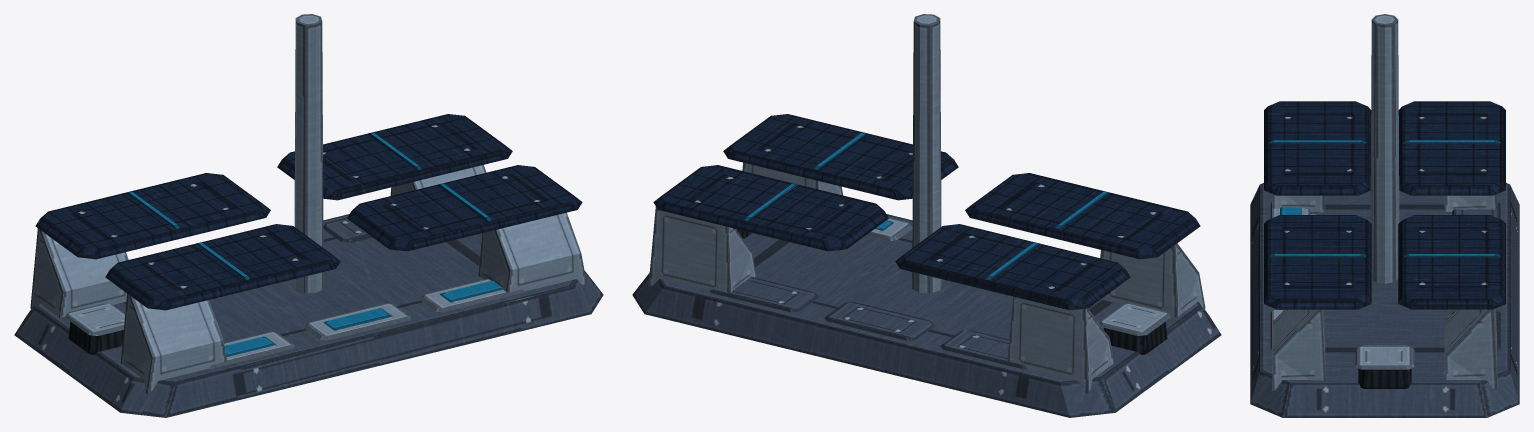
Rendered from building-solar.fbx.
3 renders of one model, left to right at view 1: azimuth 30°, elevation 25°; view 2: azimuth 150°, elevation 25°; view 3: azimuth 270°, elevation 25°, orthographic. The views are drawn at different scales.
Visible parts, largest first — view 1: building-solar; view 2: building-solar; view 3: building-solar.
Part boxes in pixels (x1,y1,x2,y2): building-solar: (14, 14, 603, 417); building-solar: (632, 14, 1221, 417); building-solar: (1250, 14, 1519, 417).
Size of the model in its own units: 2912 by 1700 by 1456.
1 material, 1 textured.
